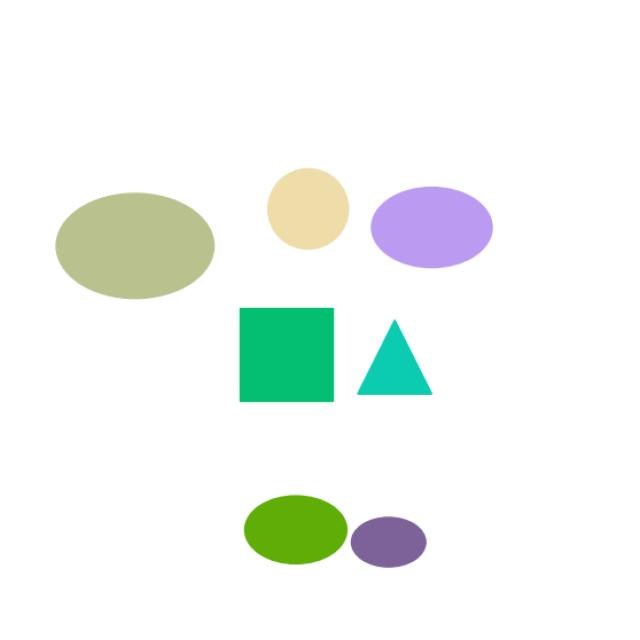Circle: (255, 160, 358, 258)
Oval: (46, 188, 219, 300), (364, 180, 513, 276), (234, 492, 357, 578), (347, 496, 439, 576)
Triangle: (348, 315, 451, 409)
square: (226, 299, 352, 425)
